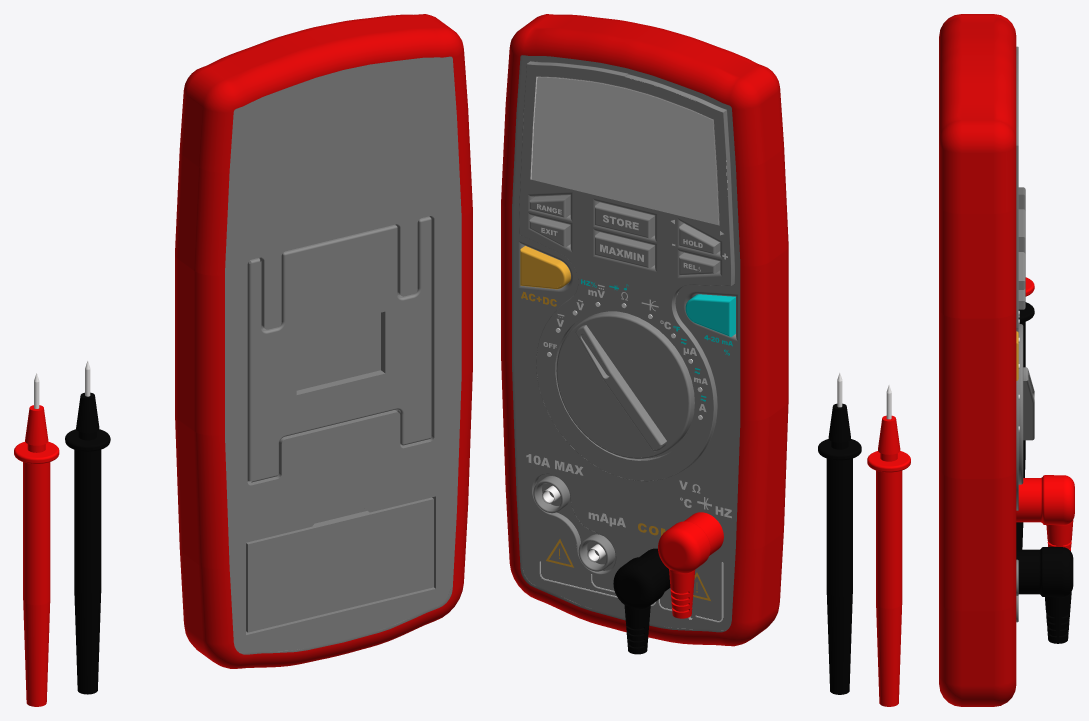
Rendered from body v2.gltf.
3 renders of one model, left to right at view 1: azimuth 30°, elevation 25°; view 2: azimuth 150°, elevation 25°; view 3: azimuth 270°, elevation 25°, orthographic. The views are drawn at different scales.
Visible parts, largest first — view 1: object 3, object 2, Componente1, Componente2; view 2: object 3, object 2, object 1, Componente2 (×2), Componente1 (×2), object 6, object 5, object 8, object 7; view 3: object 2, Componente1 (×2), object 3, Componente2.
Boxes of the visible parts, x1,y1,x2,y2 form: object 3: (225, 56, 461, 654); object 2: (175, 14, 472, 668); Componente1: (65, 360, 110, 694); Componente2: (14, 373, 59, 706); object 3: (512, 55, 740, 632); object 2: (501, 14, 788, 646); object 1: (531, 77, 718, 225); Componente2 (×2): (658, 384, 910, 706); Componente1 (×2): (613, 372, 861, 694); object 6: (526, 204, 731, 622); object 5: (520, 246, 710, 600); object 8: (685, 294, 735, 336); object 7: (530, 76, 727, 619); object 2: (939, 14, 1016, 706); Componente1 (×2): (1016, 302, 1073, 643); object 3: (1016, 46, 1034, 622); Componente2: (1016, 475, 1074, 550).
Size of the model in its own units: 109 by 149 by 29.85.
